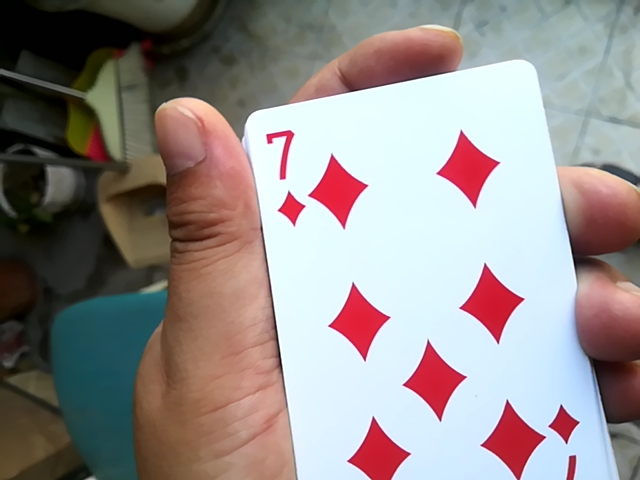fk 7: (240, 55, 614, 470)
